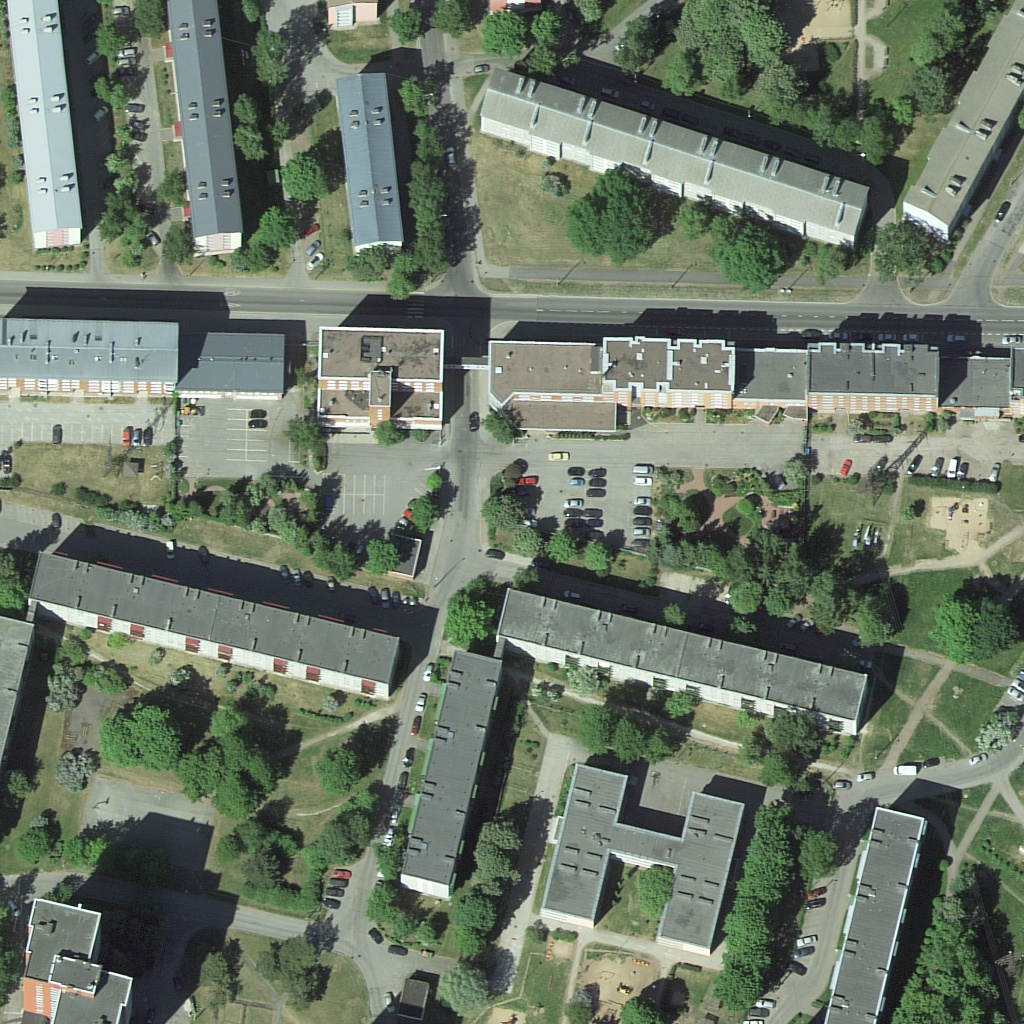building: (478, 64, 871, 248), (503, 588, 876, 735), (28, 555, 407, 699), (898, 5, 1024, 241), (396, 649, 504, 899), (827, 811, 930, 1024), (5, 1, 89, 250), (165, 1, 243, 255), (16, 893, 135, 1024), (657, 791, 747, 953), (544, 761, 628, 931), (1, 319, 181, 398), (331, 64, 405, 249), (807, 338, 942, 419), (602, 335, 735, 417), (180, 330, 291, 404), (489, 333, 604, 403)
